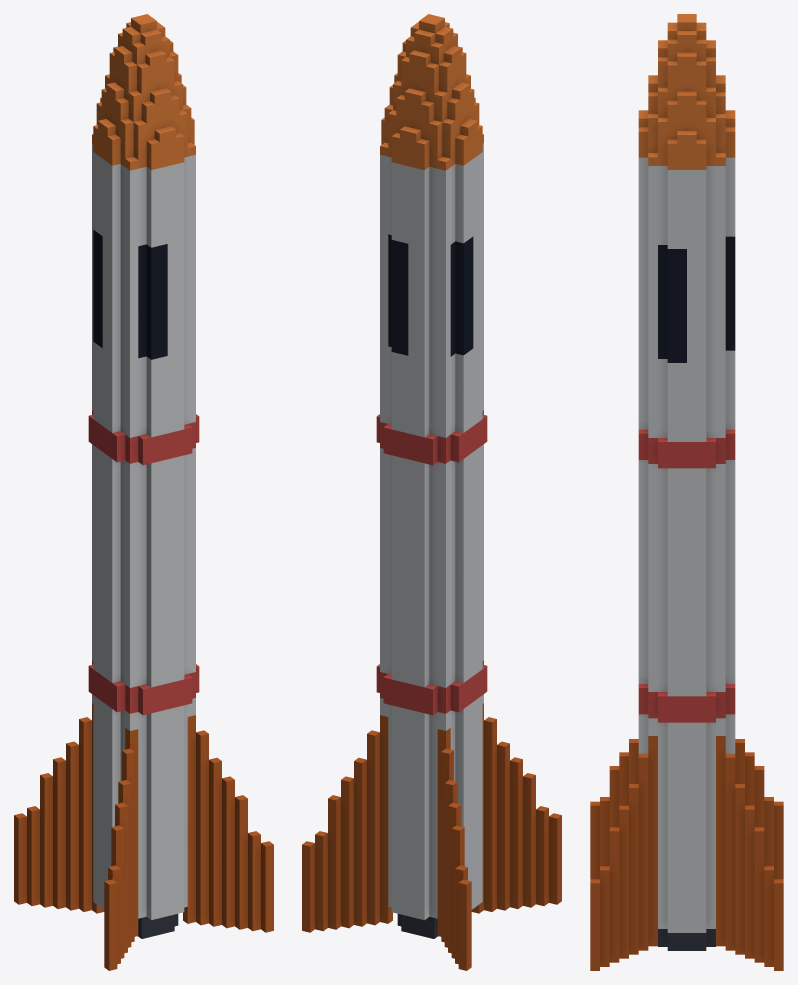
Rendered from rocket_e2.glb.
3 renders of one model, left to right at view 1: azimuth 30°, elevation 25°; view 2: azimuth 150°, elevation 25°; view 3: azimuth 270°, elevation 25°, orthographic.
Parts seen in each view (by area): view 1: Base; view 2: Base; view 3: Base.
Part boxes in pixels (<box>): Base: <box>14,14,273,970</box>; Base: <box>302,14,561,970</box>; Base: <box>590,14,783,970</box>.
Bounding box in the file's own units: 2 × 10.5 × 2.
